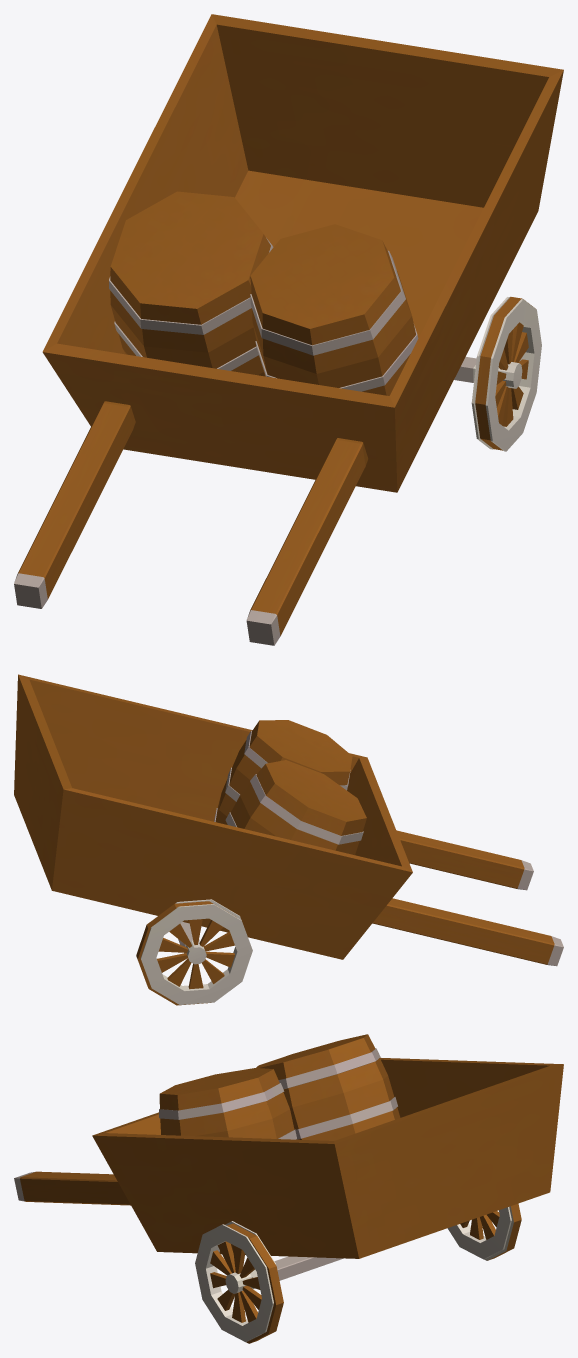
Rendered from Wooden_Cart.fbx.
The picture shows the model from 3 angles, top to bottom: view 1: azimuth 30°, elevation 25°; view 2: azimuth 150°, elevation 25°; view 3: azimuth 270°, elevation 25°; orthographic projection. The views are drawn at different scales.
Parts seen in each view (by area): view 1: Wooden_Cart; view 2: Wooden_Cart; view 3: Wooden_Cart.
Part boxes in pixels (x1,y1,x2,y2): Wooden_Cart: (14,14,563,645); Wooden_Cart: (14,674,563,1005); Wooden_Cart: (14,1034,563,1343).
Bounding box in the file's own units: 1.72 × 0.7882 × 1.6.
